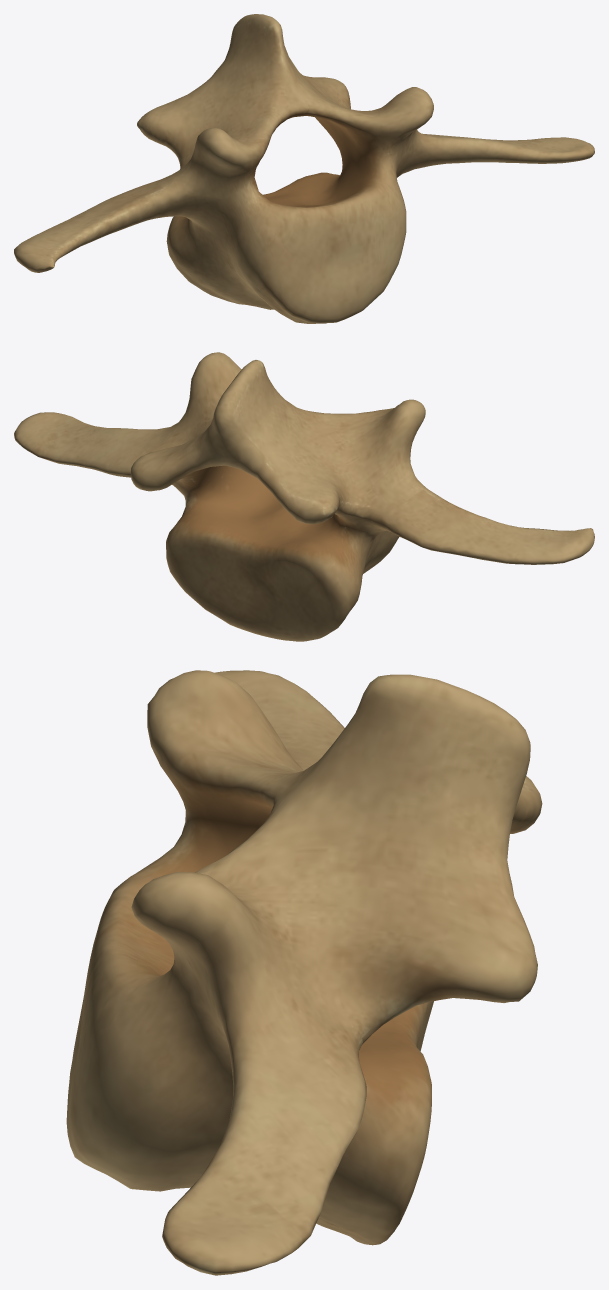
The picture shows the model from 3 angles, top to bottom: view 1: azimuth 30°, elevation 25°; view 2: azimuth 150°, elevation 25°; view 3: azimuth 270°, elevation 25°; orthographic projection. The views are drawn at different scales.
Visible parts, largest first — view 1: ZBrush_defualt_group.003; view 2: ZBrush_defualt_group.003; view 3: ZBrush_defualt_group.003.
Boxes of the visible parts, x1=… form: ZBrush_defualt_group.003: x1=14, y1=14, x2=594, y2=323; ZBrush_defualt_group.003: x1=14, y1=352, x2=594, y2=641; ZBrush_defualt_group.003: x1=66, y1=670, x2=542, y2=1275.
Bounding box in the file's own units: 137 × 63.84 × 49.98.
1 material, 1 textured.
